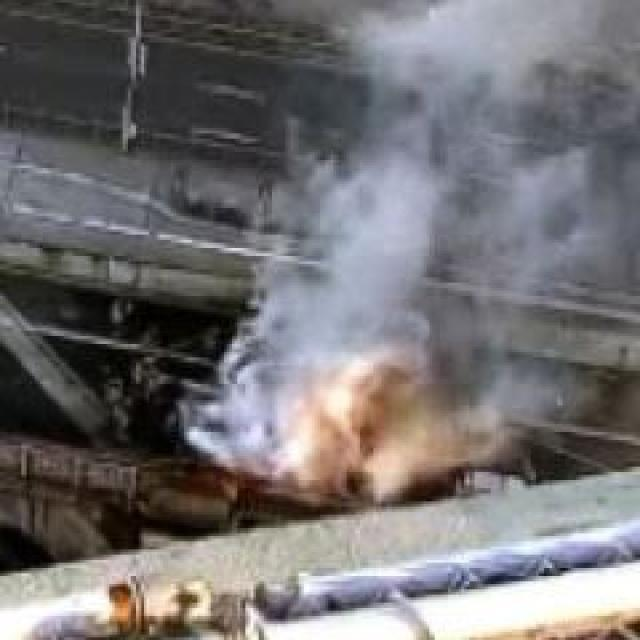Smoke: (187, 0, 640, 504)
